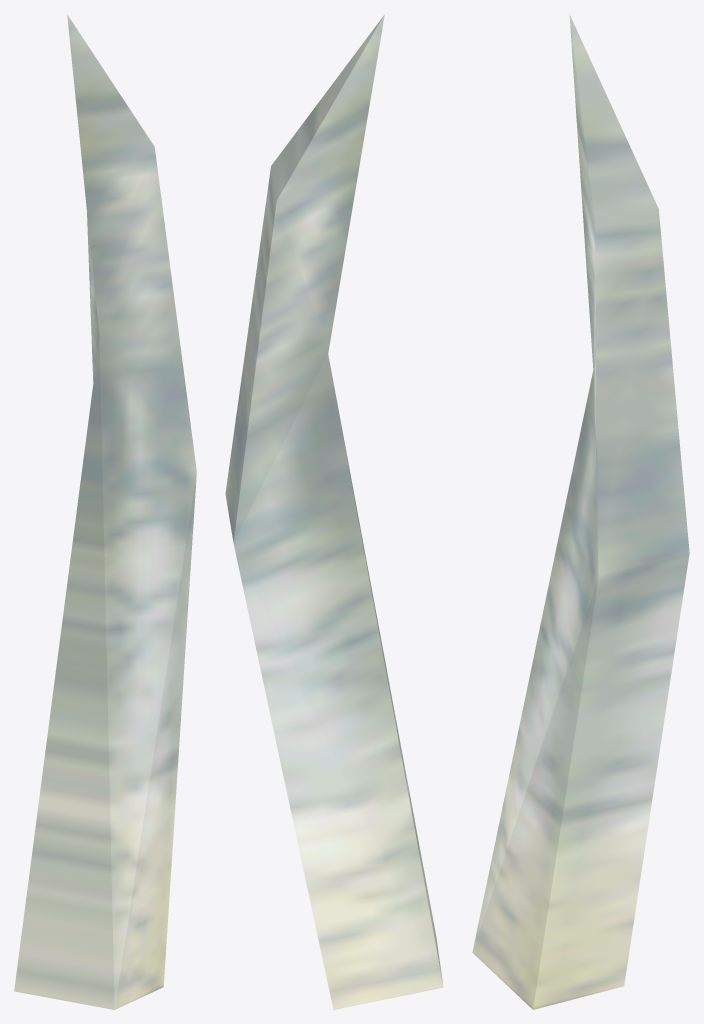
The model's file is rib23.glb.
The picture shows the model from 3 angles, left to right: view 1: azimuth 30°, elevation 25°; view 2: azimuth 150°, elevation 25°; view 3: azimuth 270°, elevation 25°; orthographic projection. The views are drawn at different scales.
Visible parts, largest first — view 1: rib23; view 2: rib23; view 3: rib23.
Part boxes in pixels (x1,y1,x2,y2): rib23: (14, 14, 196, 1009); rib23: (225, 14, 443, 1009); rib23: (472, 15, 689, 1009).
Size of the model in its own units: 523 by 2448 by 502.
Materials: 1 (1 with a texture image).
